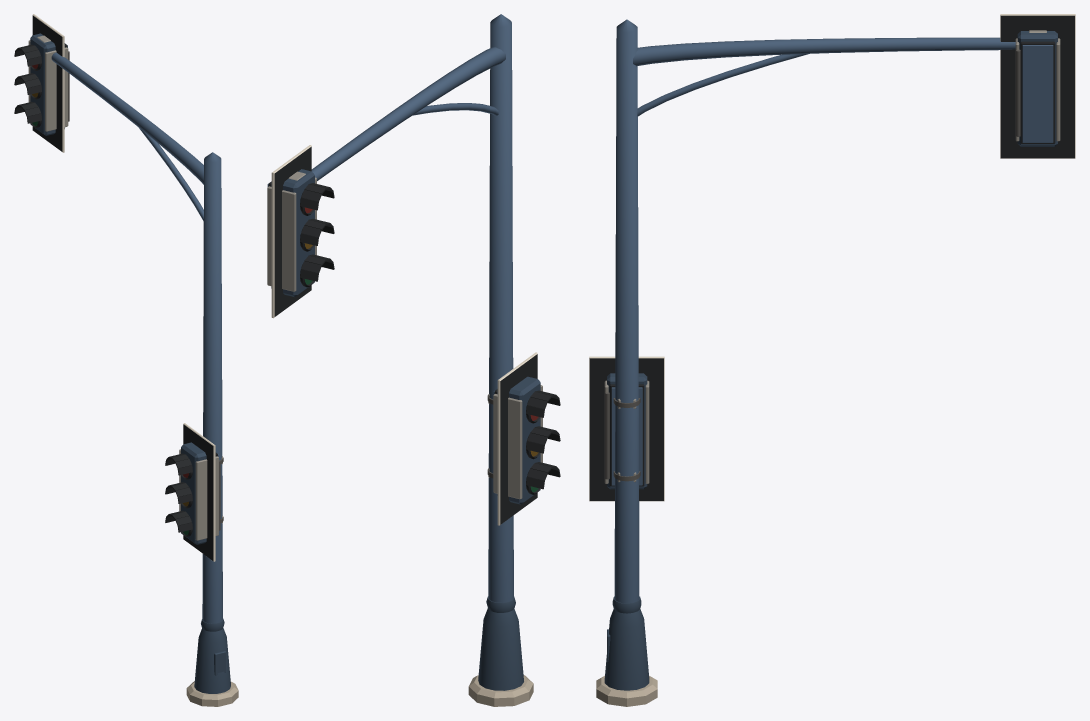
Rendered from signal.glb.
3 views of the same model, side by side, from view 1: azimuth 30°, elevation 25°; view 2: azimuth 150°, elevation 25°; view 3: azimuth 270°, elevation 25° (orthographic). The views are drawn at different scales.
Parts seen in each view (by area): view 1: signal.signal-L0.shaft.1, signal.signal-L0.near-head.6, signal.signal-L0.head.5, signal.signal-L0.mast.3, signal.signal-L0.base.0, signal.signal-L0.near-head.folded-side-rails.10, signal.signal-L0.head.folded-side-rails.9, signal.signal-L0.hatch.2; view 2: signal.signal-L0.shaft.1, signal.signal-L0.near-head.6, signal.signal-L0.head.5, signal.signal-L0.base.0, signal.signal-L0.mast.3, signal.signal-L0.near-head.folded-side-rails.10, signal.signal-L0.head.folded-side-rails.9; view 3: signal.signal-L0.shaft.1, signal.signal-L0.head.5, signal.signal-L0.near-head.6, signal.signal-L0.mast.3, signal.signal-L0.base.0.
Part boxes in pixels (x1,y1,x2,y2): signal.signal-L0.shaft.1: [202, 152, 222, 623]; signal.signal-L0.near-head.6: [165, 423, 220, 561]; signal.signal-L0.head.5: [14, 14, 69, 152]; signal.signal-L0.mast.3: [51, 52, 203, 220]; signal.signal-L0.base.0: [186, 628, 238, 706]; signal.signal-L0.near-head.folded-side-rails.10: [179, 449, 218, 540]; signal.signal-L0.head.folded-side-rails.9: [28, 40, 68, 131]; signal.signal-L0.hatch.2: [201, 618, 225, 675]; signal.signal-L0.shaft.1: [488, 14, 513, 602]; signal.signal-L0.near-head.6: [493, 352, 560, 525]; signal.signal-L0.head.5: [267, 145, 334, 318]; signal.signal-L0.base.0: [468, 608, 533, 706]; signal.signal-L0.mast.3: [311, 47, 505, 180]; signal.signal-L0.near-head.folded-side-rails.10: [493, 385, 542, 499]; signal.signal-L0.head.folded-side-rails.9: [267, 177, 316, 291]; signal.signal-L0.shaft.1: [614, 19, 639, 603]; signal.signal-L0.head.5: [1000, 14, 1075, 158]; signal.signal-L0.near-head.6: [589, 356, 664, 501]; signal.signal-L0.mast.3: [633, 37, 1015, 116]; signal.signal-L0.base.0: [596, 609, 657, 706].
Bounding box in the file's own units: 0.671 × 5.57 × 3.61.
